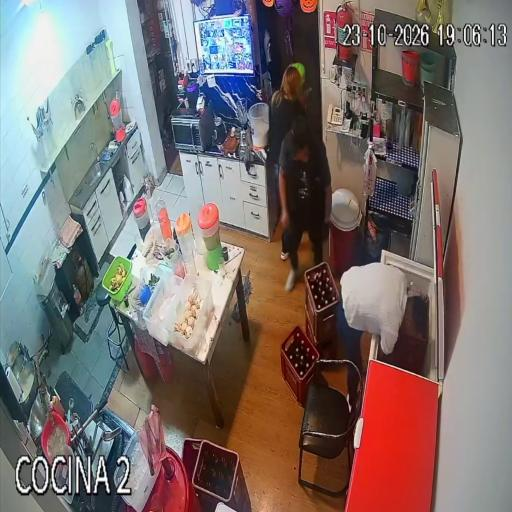Balde: (249, 102, 269, 149)
Envase Llajua: (338, 263, 408, 354), (52, 394, 64, 418)
Jarra1: (133, 196, 150, 239)
Jarra2: (175, 213, 194, 258)
Jarra3: (189, 199, 206, 256)
Jarra4: (198, 203, 221, 269)
Licuadora: (213, 115, 226, 145)
Licuadora2: (238, 99, 250, 145)
Microondas: (171, 104, 214, 151)
Persona1: (279, 116, 330, 290)
Persona2: (269, 65, 303, 165)
Persona3: (337, 263, 428, 406)
Taper: (102, 257, 132, 301)
Taper2: (128, 264, 162, 332)
Taper3: (143, 272, 183, 346)
Taper4: (164, 275, 213, 354)
Taper5: (114, 430, 158, 512)
